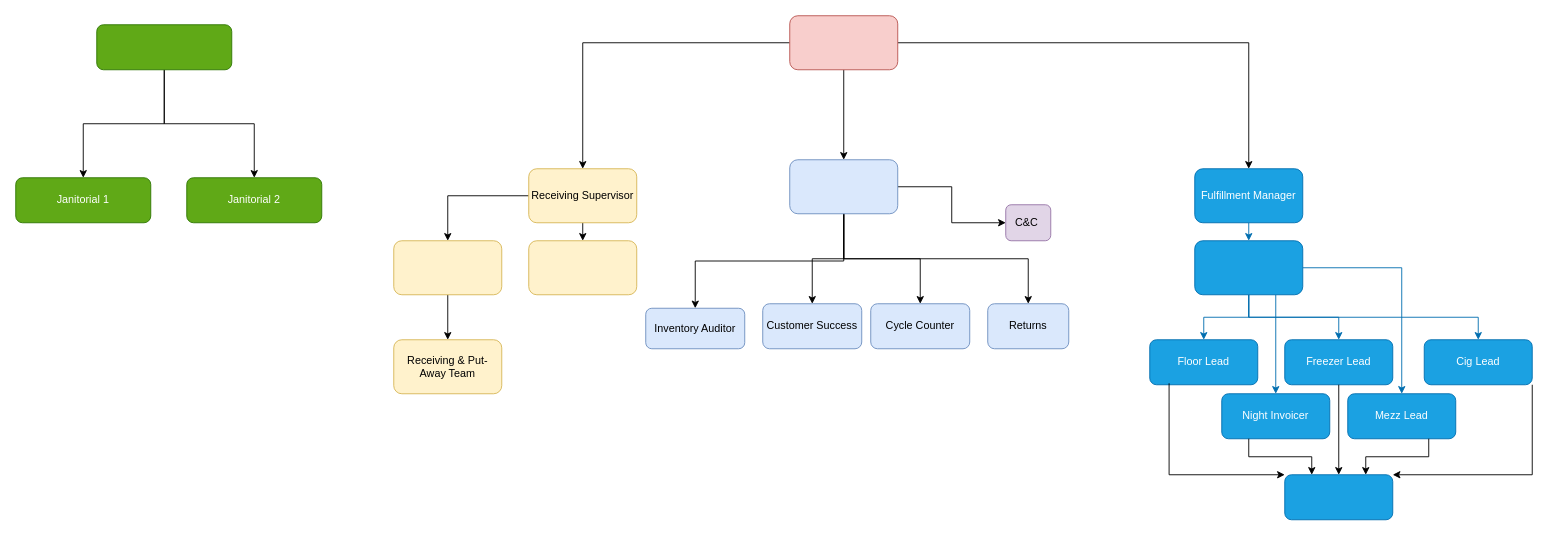
Some shapes in this 1555 by 536 pixel diagram are drawn without their labels. The shapes that lost their labels are listed below. From the top down, each one's box as (x1, y1, x2, y2) in pixels, then its label:
(96, 24, 232, 70): Director of Facilities
(789, 15, 898, 70): Director of Operations
(789, 159, 898, 214): Inventory Manager
(393, 240, 502, 295): Receiving Floor Lead
(528, 240, 637, 295): Receiving Specialist
(1194, 240, 1303, 295): Fulfillment Assistant Manager
(1284, 474, 1393, 520): Fulfillment Team Members
